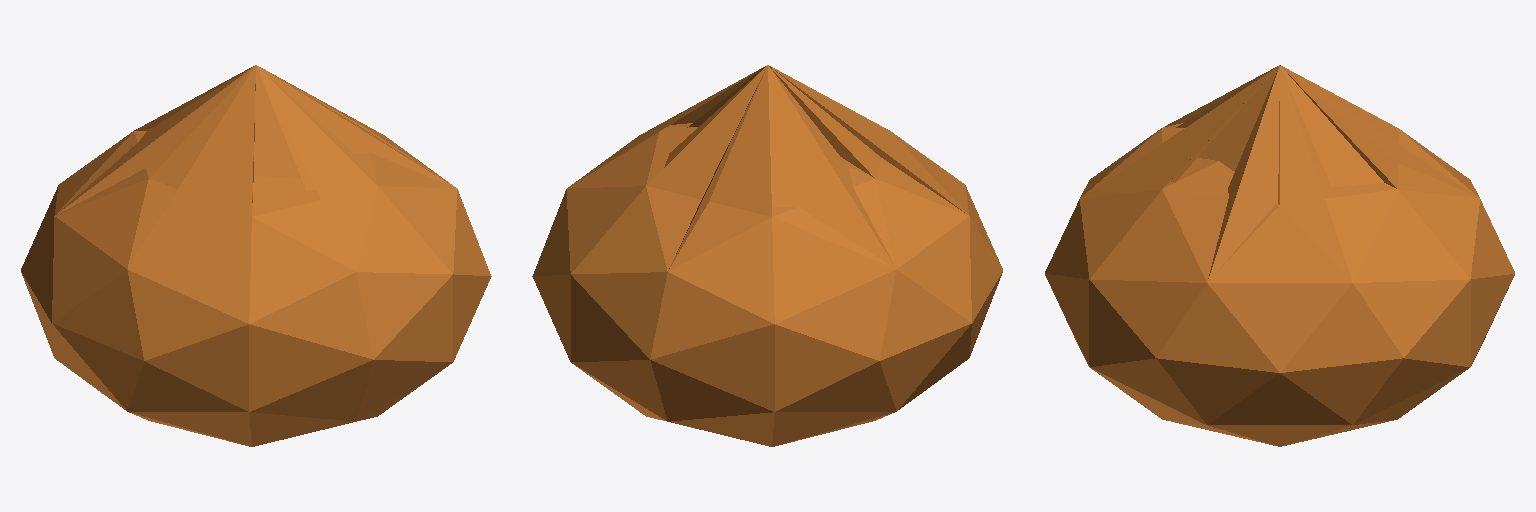
robot.urdf — onion:
<?xml version="1.0"?>
<robot name="onion"
       xmlns:xi="http://www.w3.org/2001/XInclude">
  <gazebo>
    <static>false</static>
  </gazebo>
  <link name="nil_link">
    <visual>
      <origin xyz="0 0 0" rpy="0 -0 0"/>
      <geometry>
        <mesh filename="model://onion/meshes/nil_link_mesh.dae" scale="1 1 1" />
      </geometry>
    </visual>
    <collision>
      <origin xyz="0 0 0" rpy="0 -0 0"/>
      <geometry>
        <mesh filename="model://onion/meshes/nil_link_mesh.dae" scale="1 1 1" />
      </geometry>
    </collision>
    <inertial>
      <mass value="0.001" />
      <origin xyz="0 0 0" rpy="0 -0 0"/>
      <inertia ixx="1e-03" ixy="0" ixz="0" iyy="1e-03" iyz="0" izz="1e-03"/>
    </inertial>
  </link>
  <gazebo reference="nil_link">
    <mu1>0.9</mu1>
    <mu2>0.9</mu2>
  </gazebo>
</robot>

--- What the picture shows (computed from the rendered views, not written in the file) ---
Views: 3 orthographic renders of the robot side by side, from view 1: azimuth 30°, elevation 25°; view 2: azimuth 150°, elevation 25°; view 3: azimuth 270°, elevation 25°.
Model onion with 1 links and 0 joints (none), rooted at nil_link, posed every joint at zero.
Links seen in each view (by area): view 1: nil_link; view 2: nil_link; view 3: nil_link.
Boxes of the visible links, x1,y1,x2,y2 form: nil_link: (21,65,491,446); nil_link: (532,65,1002,446); nil_link: (1045,65,1514,446).
Bounding box of the posed robot: 0.09 × 0.09 × 0.074 m (x, y, z).
Meshes: 1 distinct files referenced, 1 mesh visuals loaded (1 Collada DAE).